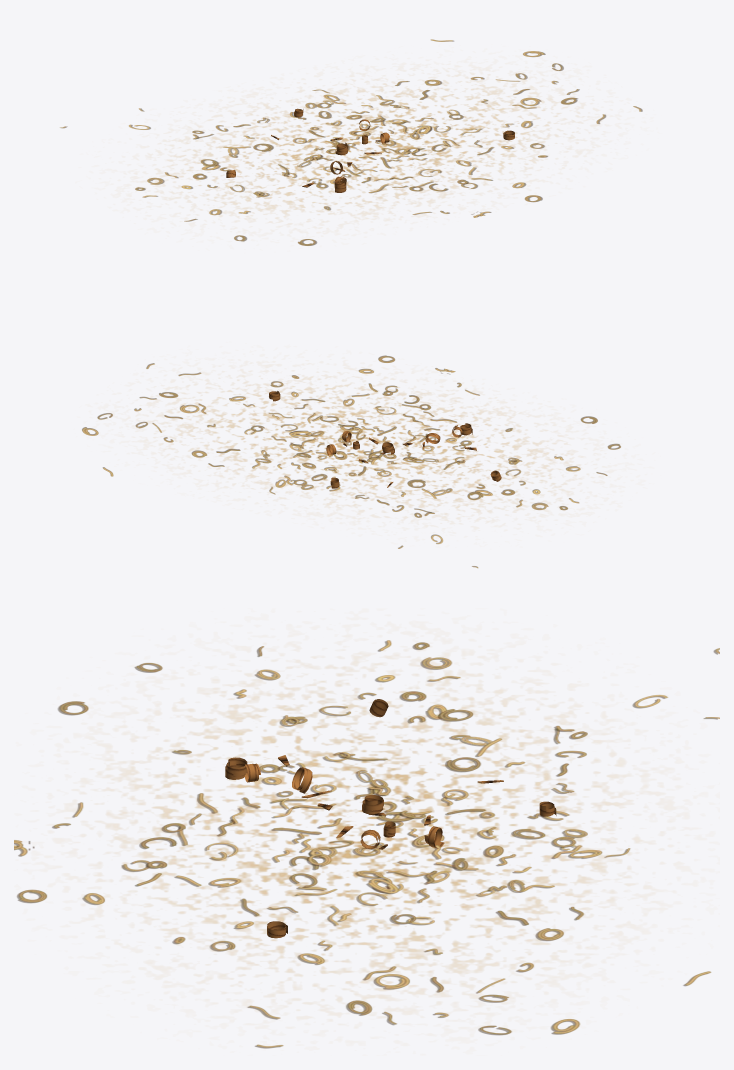
The model's file is Shavings_Wide.glb.
3 renders of one model, top to bottom at view 1: azimuth 30°, elevation 25°; view 2: azimuth 150°, elevation 25°; view 3: azimuth 270°, elevation 25°, orthographic. The views are drawn at different scales.
Visible parts, largest first — view 1: Shavings_Decal, Shavings_Wide; view 2: Shavings_Decal, Shavings_Wide; view 3: Shavings_Decal, Shavings_Wide.
Part boxes in pixels (box(x1,y1,x2,y2)): Shavings_Decal: box(60, 39, 642, 245); Shavings_Wide: box(226, 108, 514, 192); Shavings_Decal: box(82, 355, 620, 568); Shavings_Wide: box(269, 391, 501, 488); Shavings_Decal: box(14, 640, 719, 1048); Shavings_Wide: box(225, 699, 556, 938).
Bounding box in the file's own units: 2.4 × 0.0534 × 1.6.
Materials: 2 (2 with a texture image).
